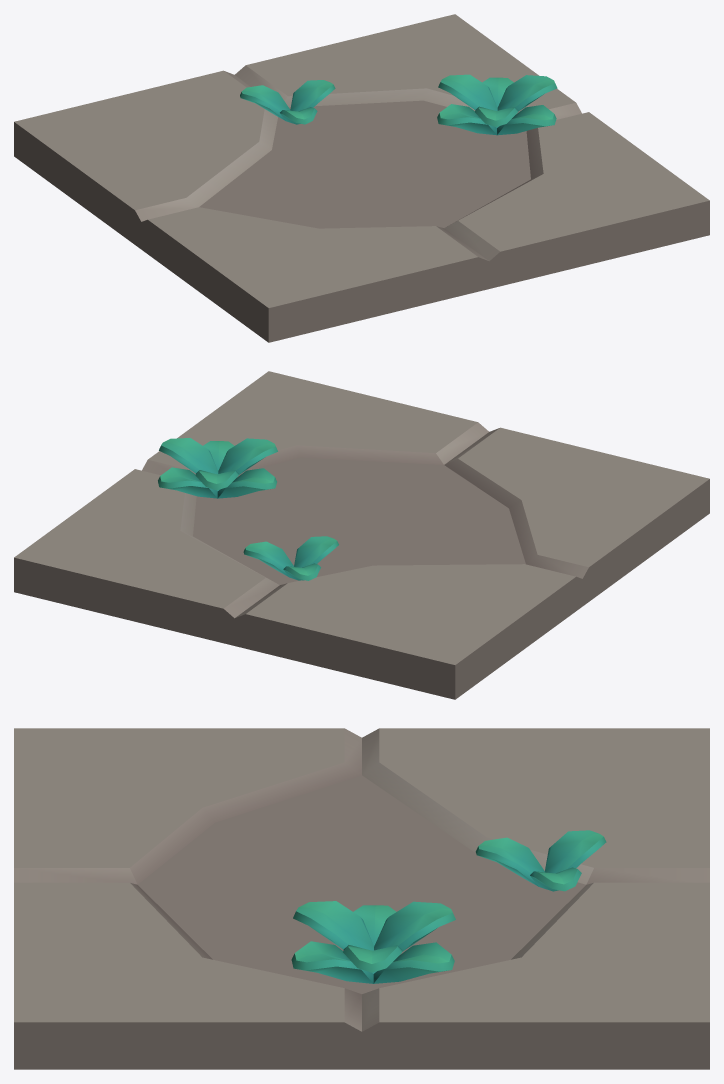
File: floor_tile_small_weeds_B.glb
3 renders of one model, top to bottom at view 1: azimuth 30°, elevation 25°; view 2: azimuth 150°, elevation 25°; view 3: azimuth 270°, elevation 25°, orthographic. The views are drawn at different scales.
Visible parts, largest first — view 1: floor_tile_small_weeds_B; view 2: floor_tile_small_weeds_B; view 3: floor_tile_small_weeds_B.
Part boxes in pixels (<box>): floor_tile_small_weeds_B: <box>14,14,709,342</box>; floor_tile_small_weeds_B: <box>14,371,709,699</box>; floor_tile_small_weeds_B: <box>14,728,709,1069</box>.
Size of the model in its own units: 2 by 0.2954 by 2.
1 material, 1 textured.
